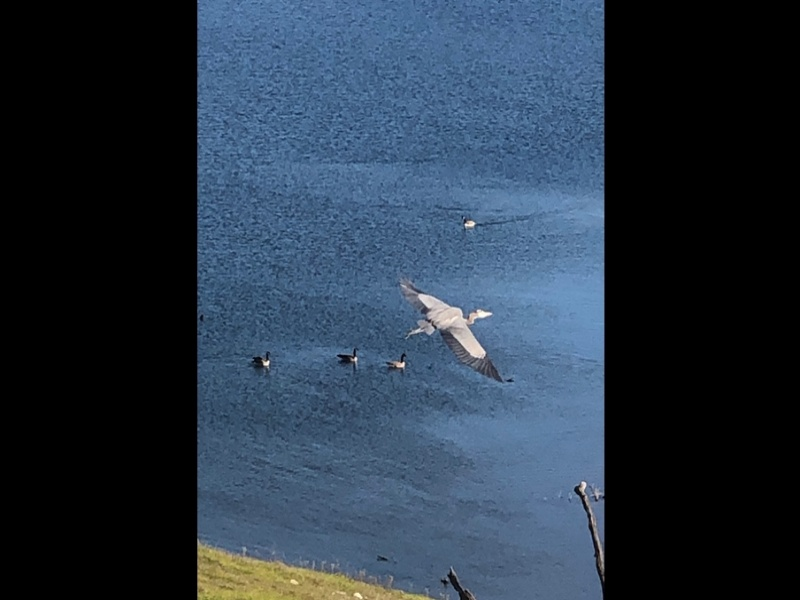heron: (396, 273, 502, 387)
